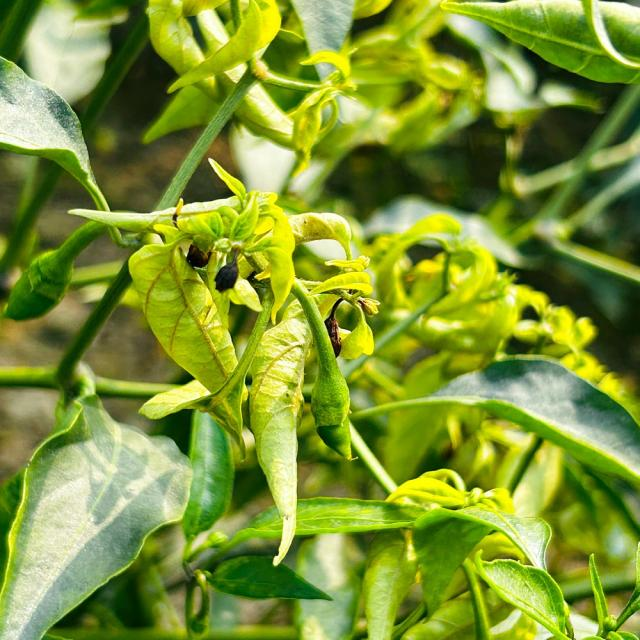Chilli_Leaf_Curl: (1, 1, 638, 638), (126, 157, 380, 566), (1, 388, 193, 638), (347, 353, 639, 488), (127, 235, 240, 397), (0, 54, 113, 212), (439, 0, 639, 86), (246, 313, 310, 566), (144, 0, 282, 95), (289, 277, 355, 460), (472, 550, 574, 638)
